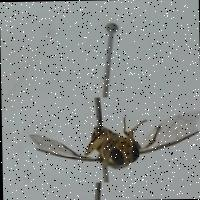Oriental-fruit-fly: (21, 95, 200, 183)
